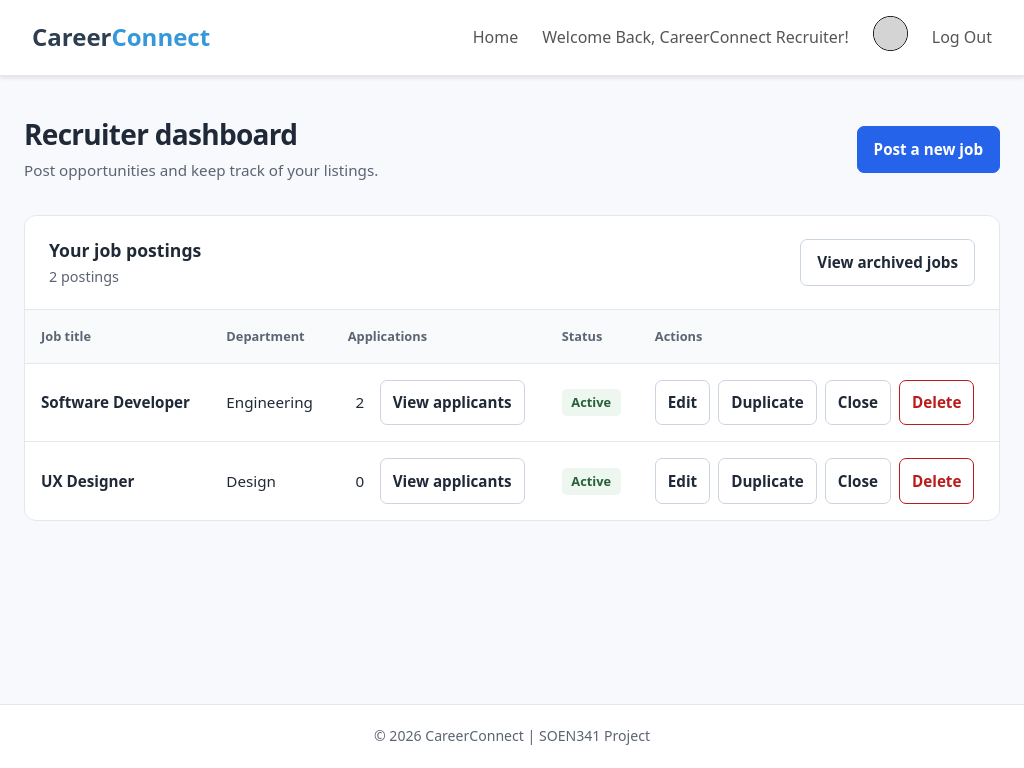
Test: keeps applicant results scoped to the selected posting and shows an empty state
Click the link with aria-label "View applicants for Software Developer" at (452, 403), box left=380, top=380, right=525, bottom=425
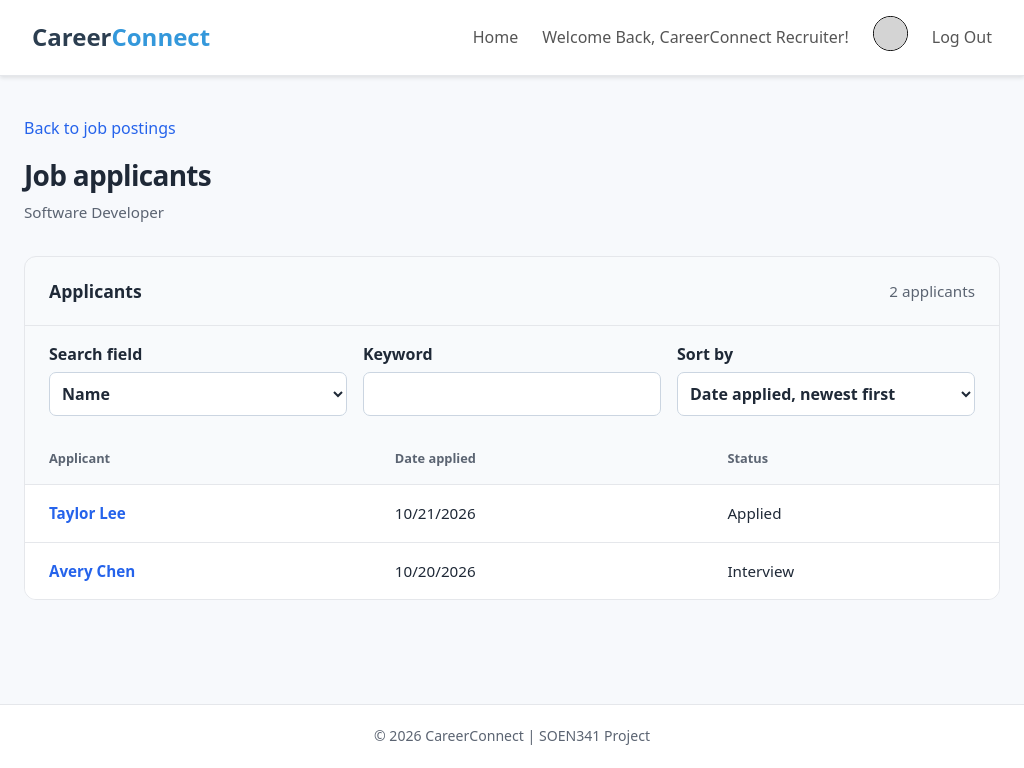
Check: the link "Taylor Lee" is shown, box left=49, top=504, right=126, bottom=524
Click the link "Back to job postings" at (100, 128), box left=24, top=117, right=176, bottom=139
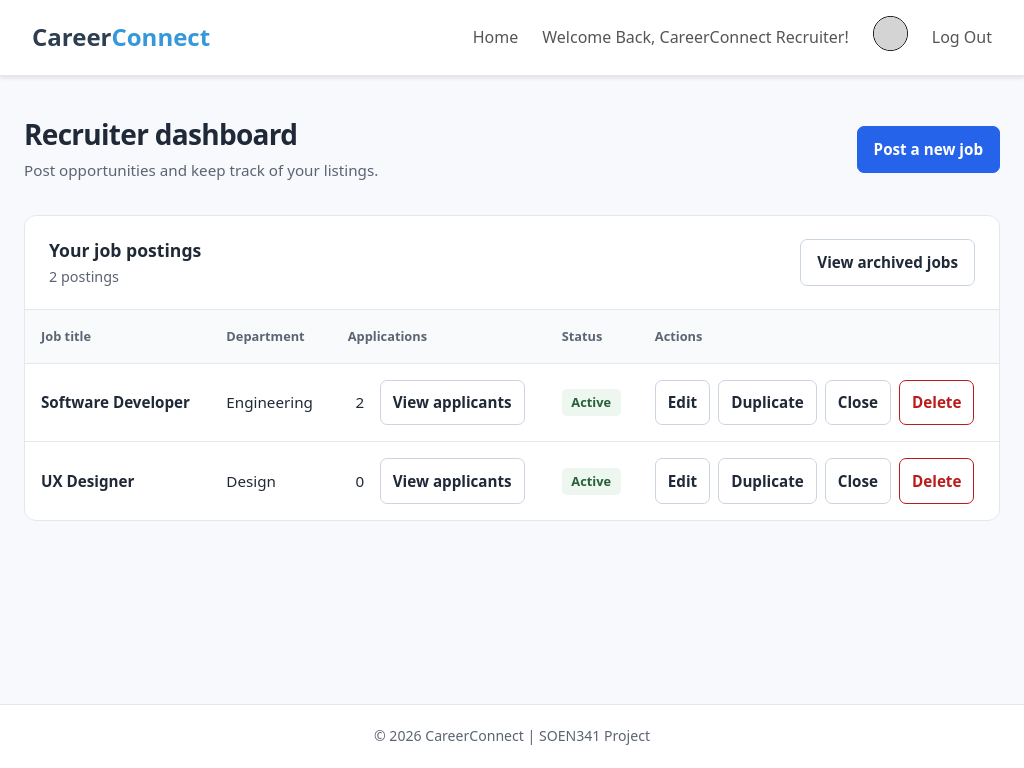
Click the link with aria-label "View applicants for UX Designer" at (452, 481), box left=380, top=458, right=525, bottom=504
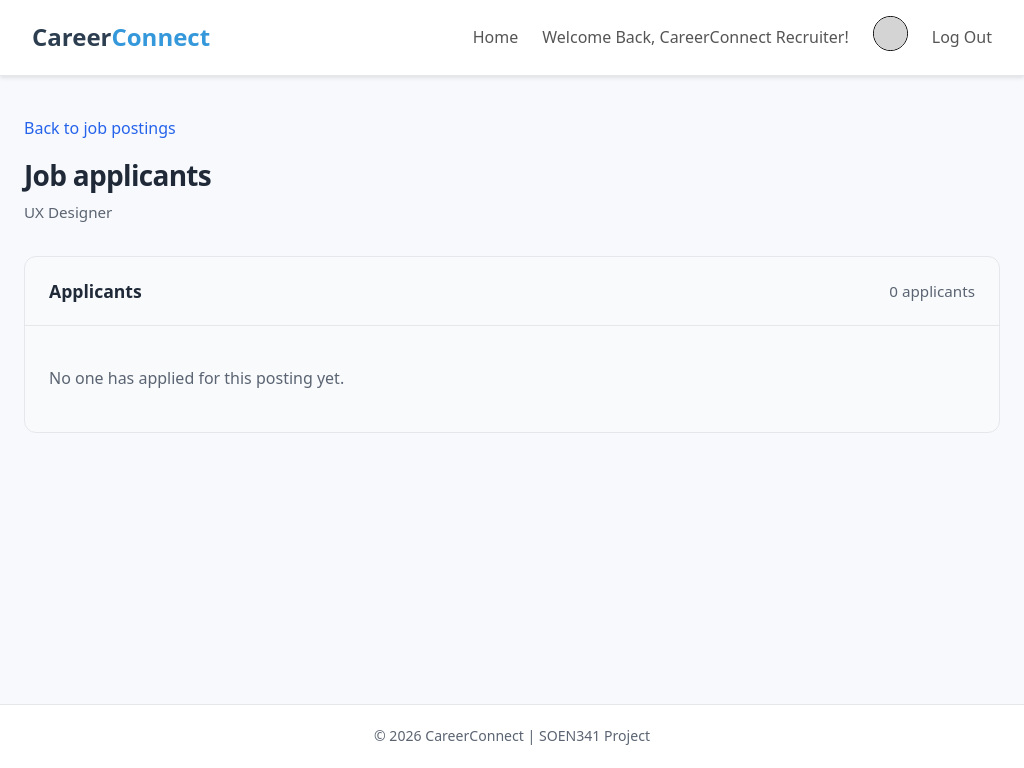
Check: the link "Taylor Lee" is not shown
Check: the text "No one has applied for this posting yet." is shown, box left=49, top=367, right=344, bottom=389
